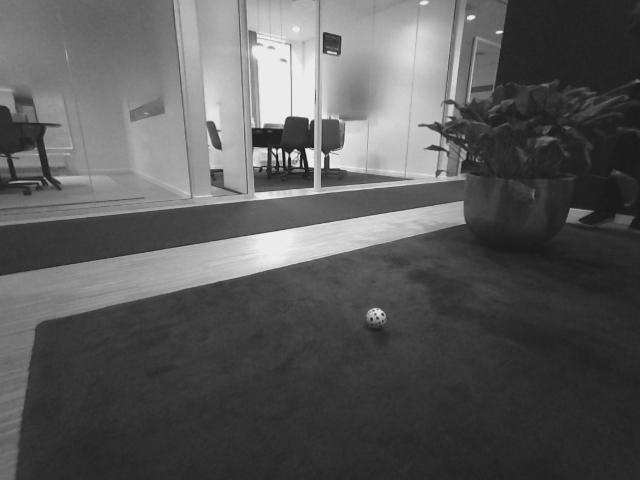dogtoy: (358, 302, 397, 335)
